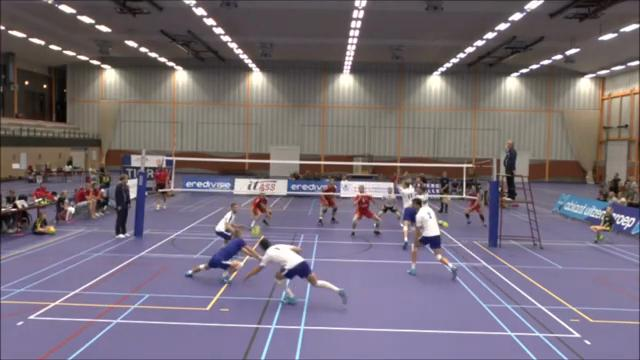Dig: (187, 228, 264, 290)
Player: (245, 237, 346, 303), (408, 199, 456, 278), (351, 185, 379, 236), (396, 178, 416, 249), (215, 202, 241, 243), (318, 178, 337, 224), (465, 186, 486, 226), (378, 187, 401, 221), (251, 192, 271, 227), (415, 184, 430, 206), (415, 184, 428, 205)
ball: (249, 224, 261, 236)
